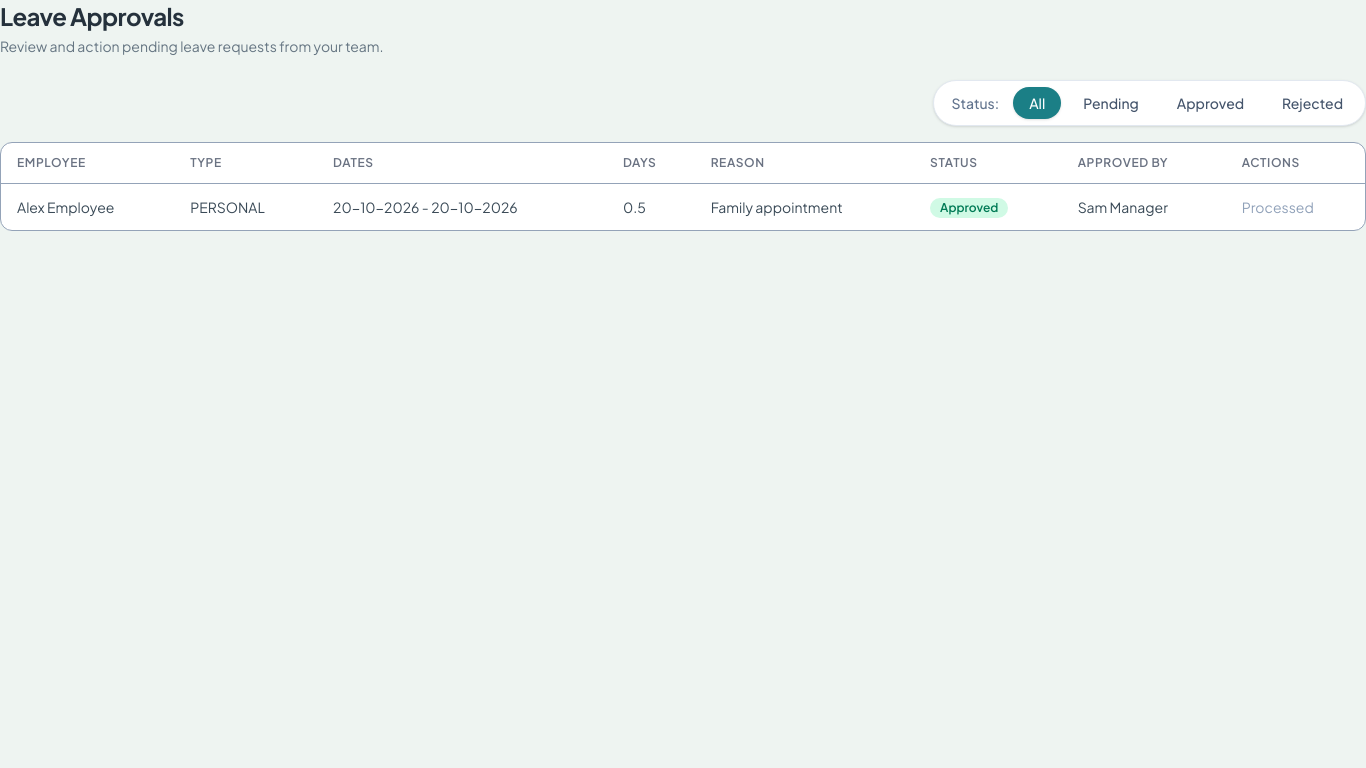
it: Leave approvals history details › opens a summary popup with leave and approval history when a row is selected
Click the text "Alex Employee" at coordinates (66, 207), box [1, 184, 1365, 230]
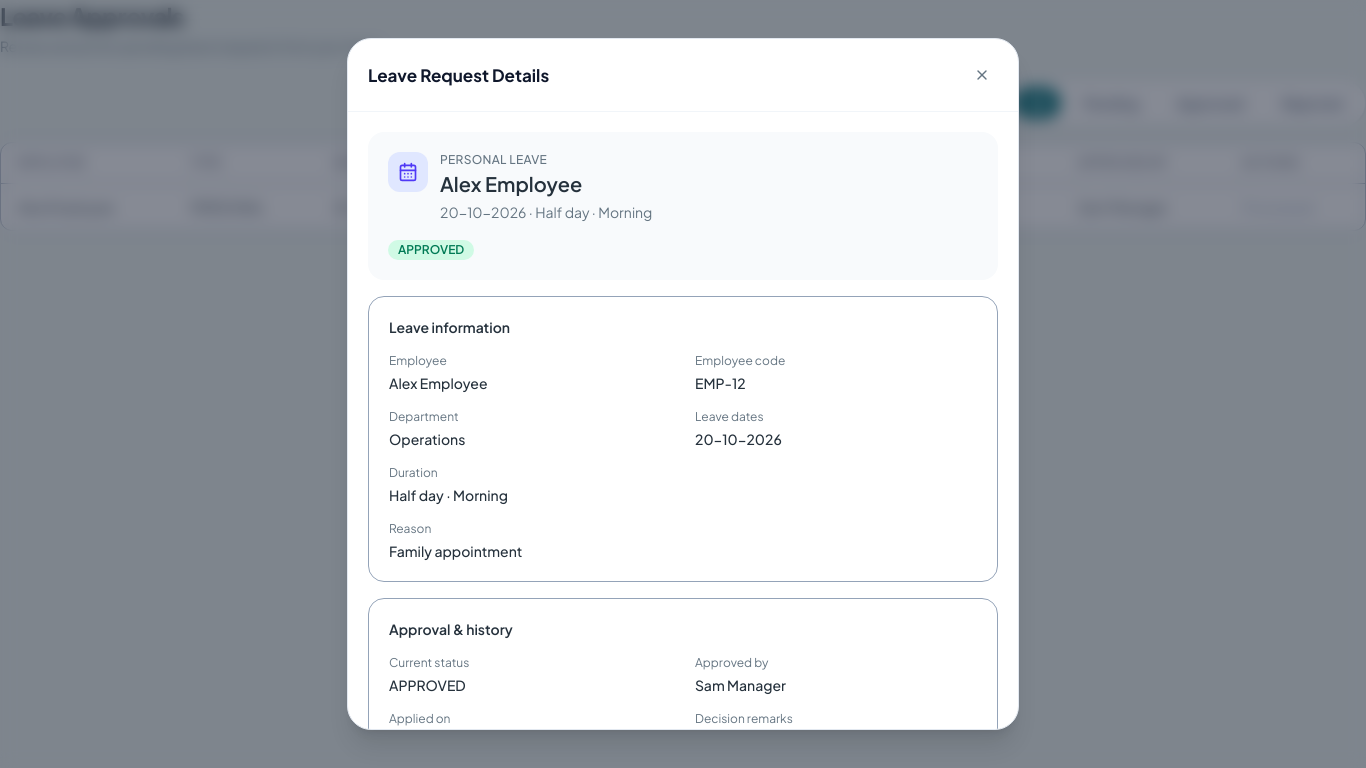
Now the dialog "Leave Request Details" is shown, box [347, 38, 1019, 730]
Now the text "Family appointment" is shown, box [389, 542, 522, 560]
Now the text "Sam Manager" is shown, box [695, 676, 786, 694]
